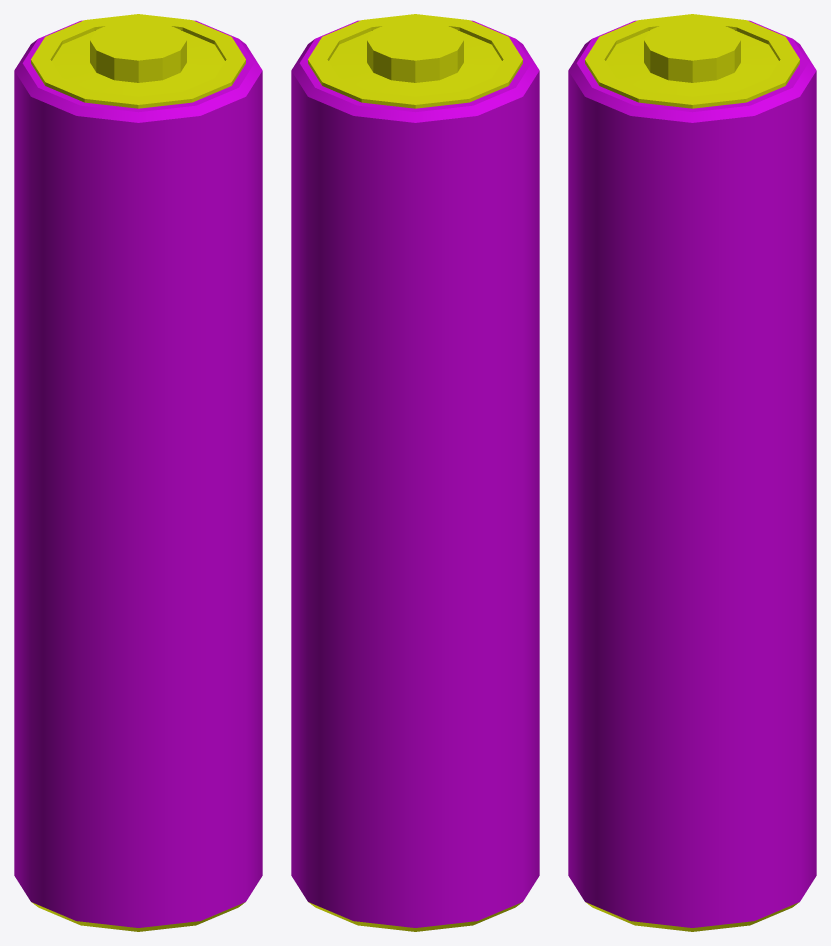
Rendered from Regular_Battery_high.fbx.
3 renders of one model, left to right at view 1: azimuth 30°, elevation 25°; view 2: azimuth 150°, elevation 25°; view 3: azimuth 270°, elevation 25°, orthographic.
Parts seen in each view (by area): view 1: Regular_Battery_high; view 2: Regular_Battery_high; view 3: Regular_Battery_high.
Part boxes in pixels (bbox=[...]): Regular_Battery_high: bbox=[14, 14, 262, 931]; Regular_Battery_high: bbox=[291, 14, 539, 931]; Regular_Battery_high: bbox=[568, 14, 816, 931].
Size of the model in its own units: 24.65 by 92.79 by 24.65.
